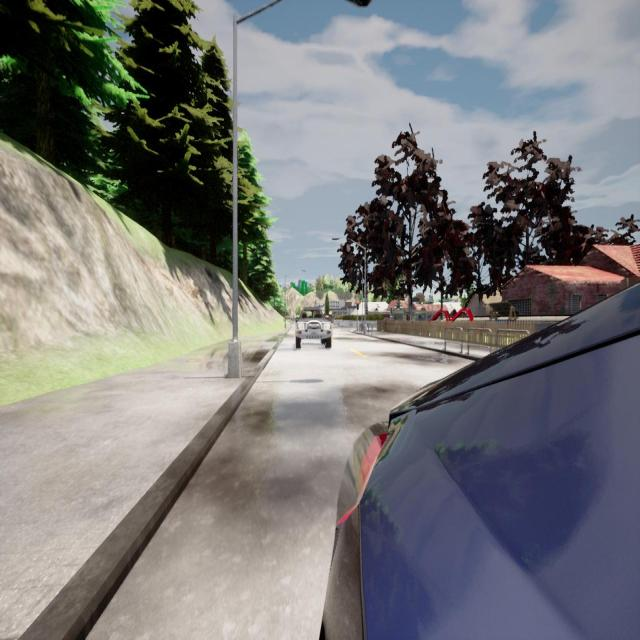Vehicle: (321, 282, 640, 640), (294, 307, 334, 351)
traffic_light: (357, 300, 359, 310)
